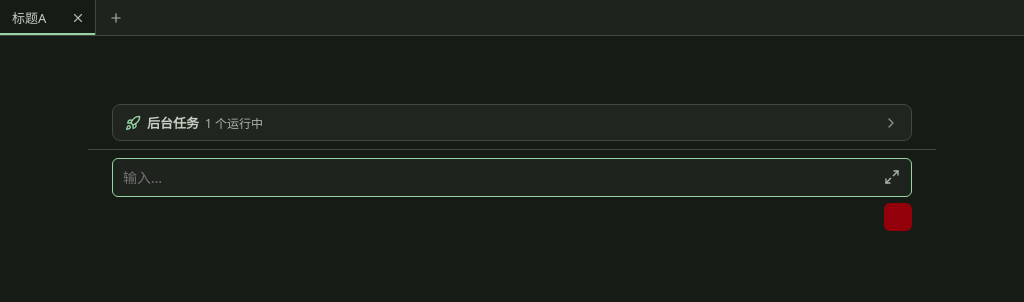
后台任务卡（展开态跨详情保留 + 键盘路径） › 展开 → 点行开详情 → 关详情：列表保持展开（用户实测回归路径）
Expected: the text "评审任务" is not shown
Click the text "后台任务" at (173, 122), box [147,113,199,132]
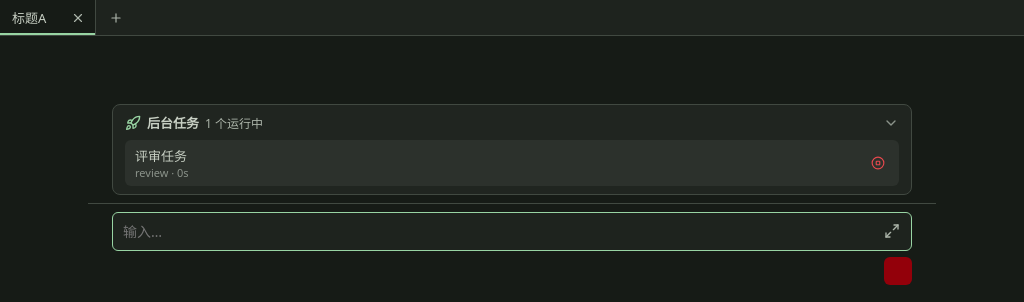
Result: the text "评审任务" is shown
# 点行：详情窗替代任务卡
Click the text "评审任务" at (161, 156), box [135,147,187,165]
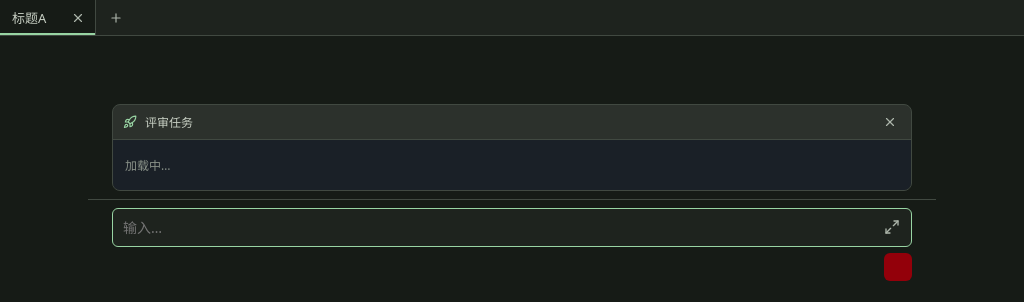
Result: the element "评审任务" is shown at [112,104,912,191]
Result: the button "后台任务" is gone
#  关闭详情（×）
Click the button named "关闭" at (890, 122), box [879,111,901,133]
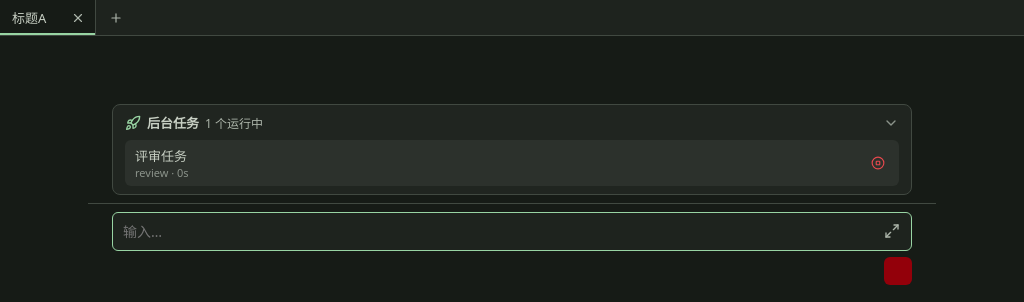
Result: the text "评审任务" is shown at [135,147,187,165]
Result: the text "后台任务" is shown at [147,113,199,132]
